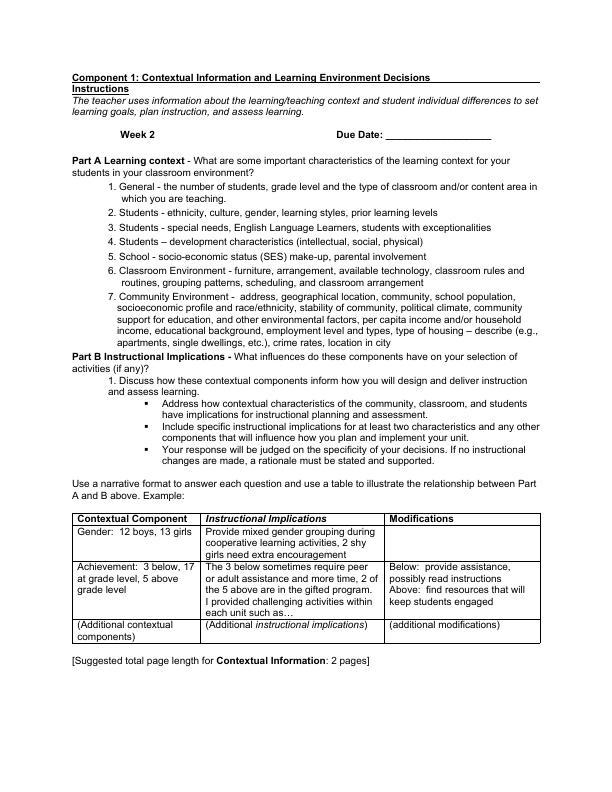input: (385, 126, 491, 144)
table: (67, 507, 548, 648)
text: (67, 152, 545, 350), (68, 353, 552, 467), (68, 473, 540, 503), (70, 93, 547, 121), (67, 653, 375, 671), (70, 71, 432, 86), (332, 126, 383, 142), (115, 126, 165, 140)
